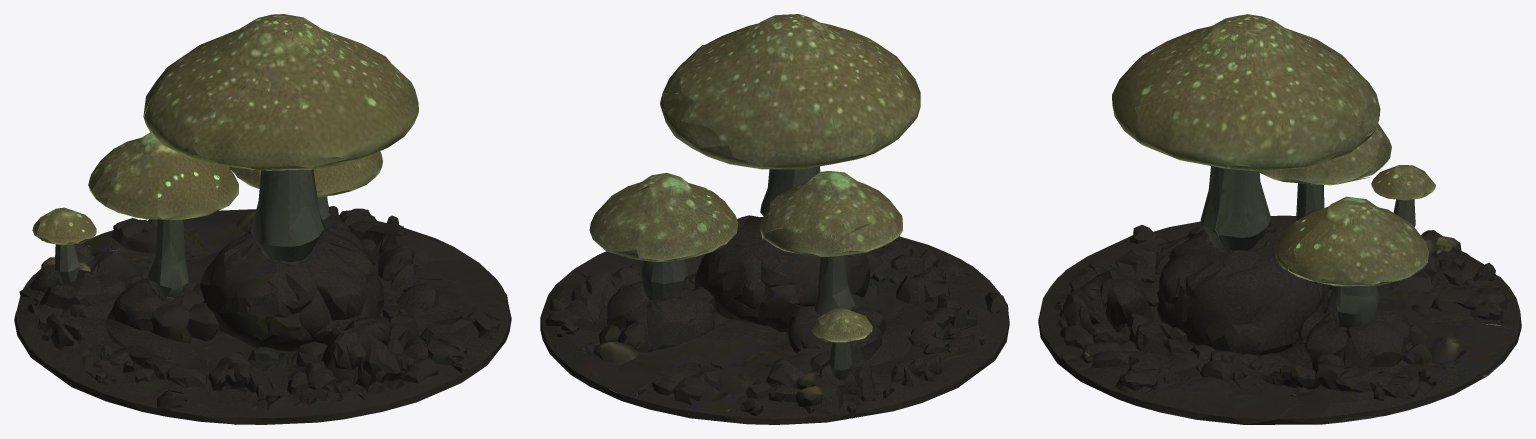
File: mushrooms.glb
3 renders of one model, left to right at view 1: azimuth 30°, elevation 25°; view 2: azimuth 150°, elevation 25°; view 3: azimuth 270°, elevation 25°, orthographic. The views are drawn at different scales.
Visible parts, largest first — view 1: Mesh_0; view 2: Mesh_0; view 3: Mesh_0.
Boxes of the visible parts, x1,y1,x2,y2 form: Mesh_0: (14,14,511,424); Mesh_0: (540,14,1009,424); Mesh_0: (1038,14,1521,424).
Size of the model in its own units: 4.75 by 3.3 by 4.77.
1 material, 1 textured.
